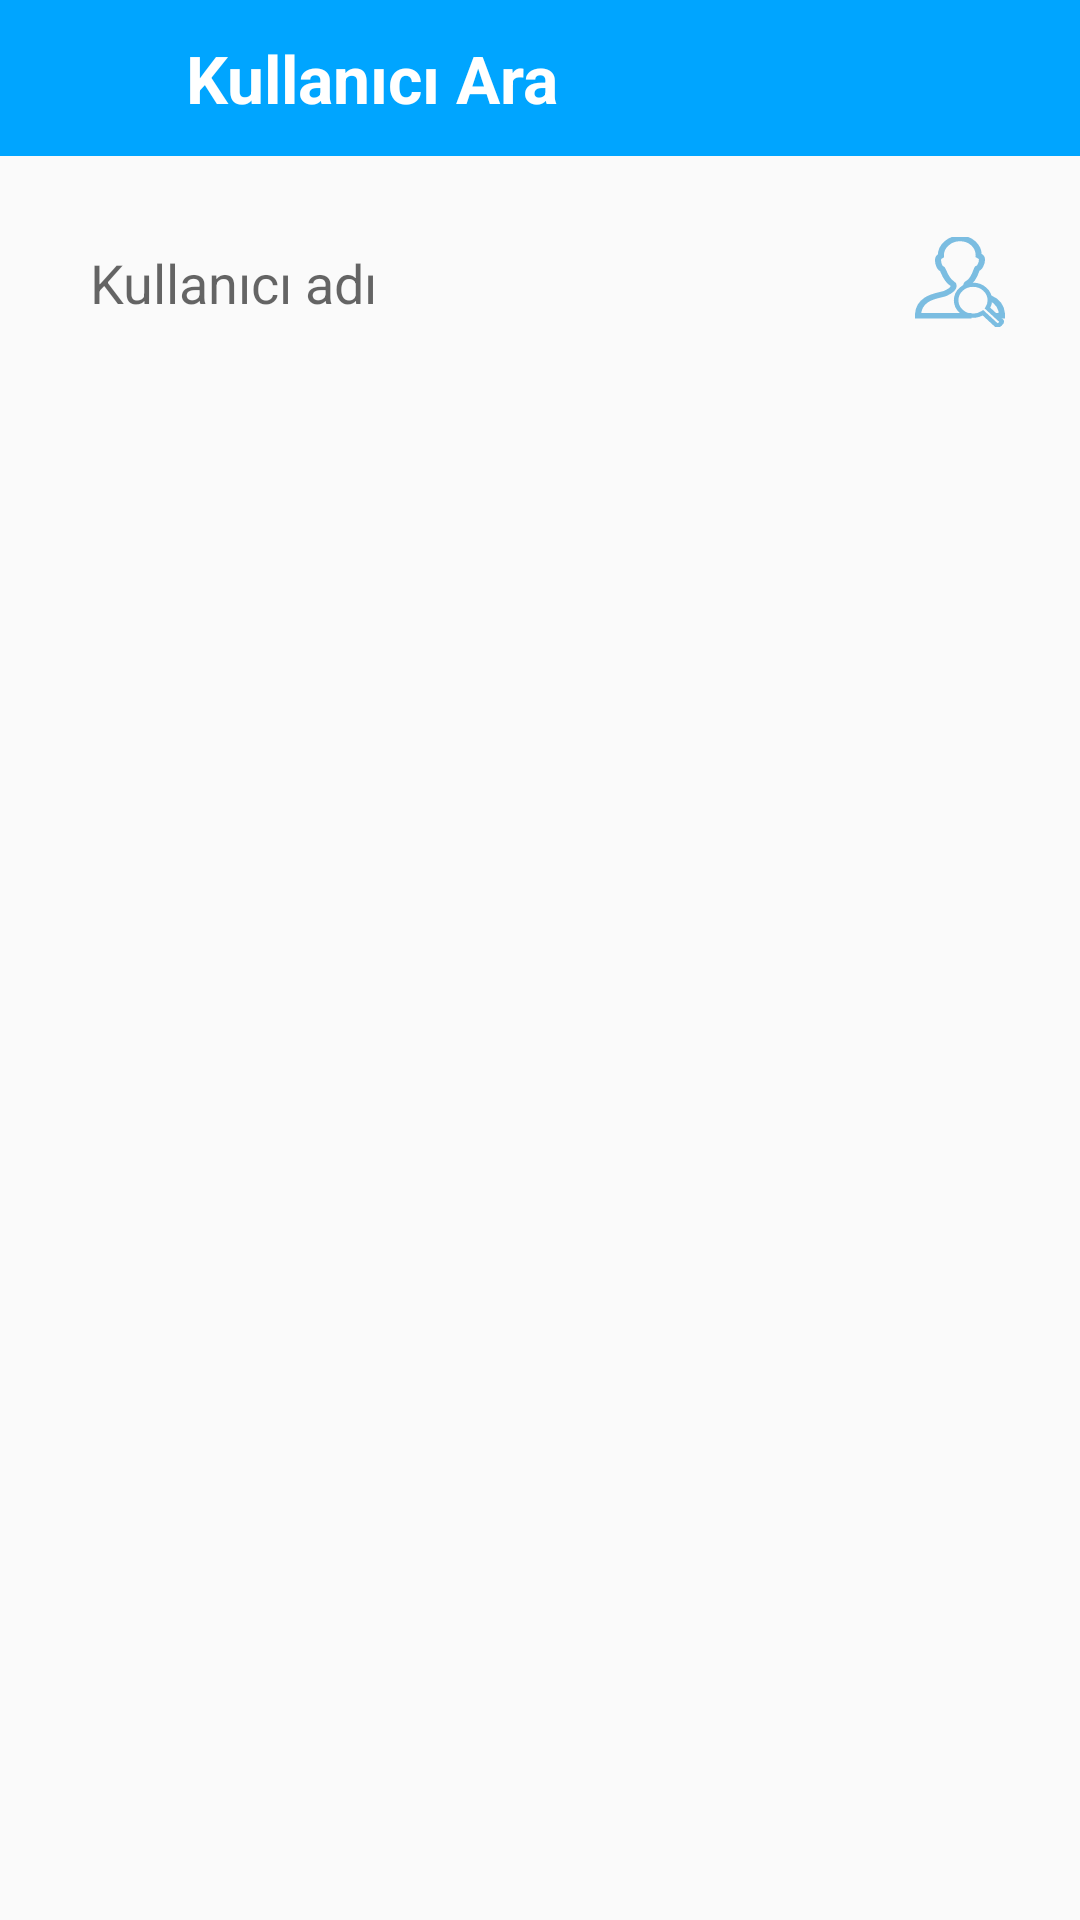

Where to tap for icons on this 1080w x 1920h app screen, as (x=x, y=y):
personsearch: (x=960, y=282)
